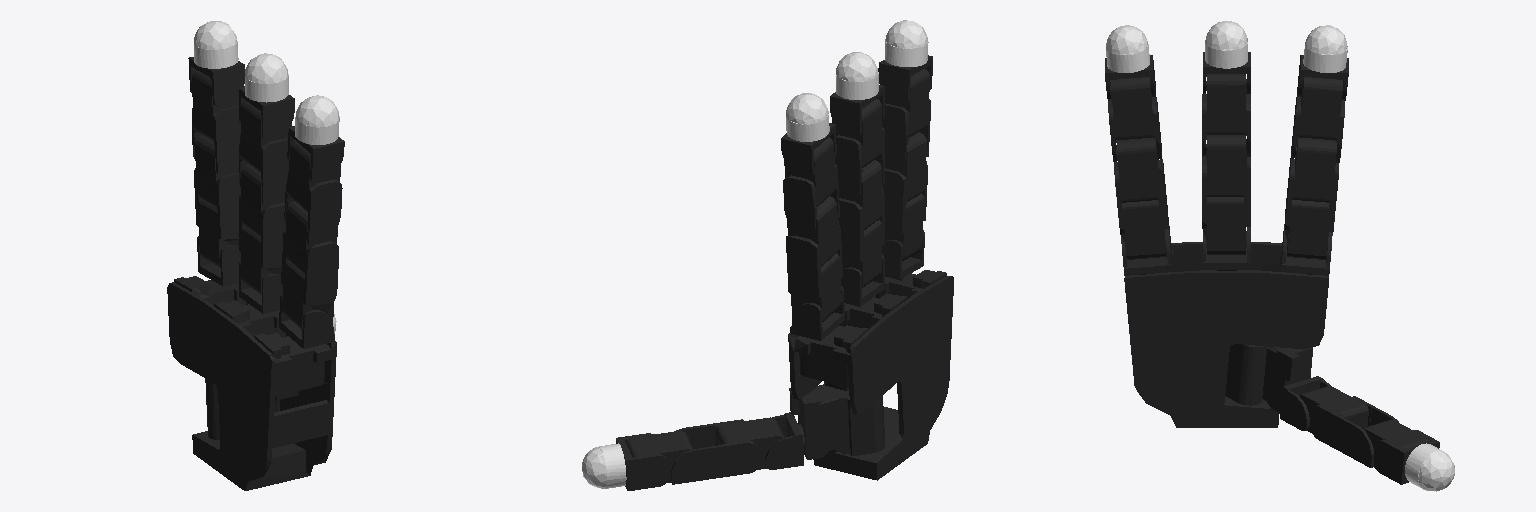
The robot description file, URDF, robot "allegro_hand_right":
<?xml version="1.0" ?>
<!-- =================================================================================== -->
<!-- |    This document was autogenerated by xacro from allegro_hand_description_right.xacro | -->
<!-- |    EDITING THIS FILE BY HAND IS NOT RECOMMENDED                                 | -->
<!-- =================================================================================== -->
<robot name="allegro_hand_right" xmlns:xacro="http://www.ros.org/wiki/xacro">
  <!--
rosrun xacro xacro.py allegro_hand_description_right.urdf.xacro > allegro_hand_description_right.urdf
roslaunch launchers/fuerte/allegro_hand_jgui_right_virtual.launch 
-->
  <!-- ======================== BASE PARAMS ========================= -->
  <!-- ======================== FINGER PARAMS ======================== -->
  <!-- full height from joint to tip. when used,
the radius of the finger tip sphere will be subtracted
and one fixed link will be added for the tip. -->
  <!--0.0435,   0.044981-->
  <!--0.002298-->
  <!--0.002298-->
  <!-- ========================= THUMB PARAMS ========================= -->
  <!-- ========================= LIMITS ========================= -->
  <!-- ============================================================================= -->
  <!-- ============================================================================= -->
  <!-- ============================================================================= -->
  <!-- BASE -->
  <link name="base_link">
    <visual>
      <geometry>
        <mesh filename="meshes/base_link.STL"/>
      </geometry>
      <!-- LEFT -->
      <!-- <origin rpy="${-90*DEG2RAD} 0 0" xyz="0 0 0 "/> -->
      <!-- RIGHT -->
      <origin rpy="0 0 0" xyz="0 0 0 "/>
      <material name="black">
        <color rgba="0.2 0.2 0.2 1"/>
      </material>
    </visual>
    <inertial>
      <mass value="0.41540000"/>
      <inertia ixx="2.3161e-7" ixy="-2.7805e-10" ixz="1.4202e-9" iyy="1.4231e-7" iyz="-8.8101e-9" izz="1.2820e-7"/>
      <origin xyz="-0.00952503 0.00046095 -0.03822657"/>
    </inertial>
    <collision>
      <origin rpy="0 0 0" xyz="-0.009300 0 -0.0475"/>
      <geometry>
        <box size="0.0408 0.1130 0.095"/>
      </geometry>
    </collision>
  </link>
  <!-- ============================================================================= -->
  <!-- FINGERS -->
  <!-- RIGHT HAND due to which finger is number 0 -->
  <!-- for LEFT HAND switch the sign of the **offset_origin_y** and **finger_angle_r** parameters-->
  <link name="link_0">
    <visual>
      <geometry>
        <mesh filename="meshes/link_0.0.STL"/>
      </geometry>
      <material name="black"/>
    </visual>
    <inertial>
      <mass value="0.01190000"/>
      <inertia ixx="4.3968e-10" ixy="4.8612e-13" ixz="1.6056e-11" iyy="2.1654e-10" iyz="-5.7592e-12" izz="4.2916e-10"/>
      <origin xyz="-0.00047307 0.00024005 0.00596328"/>
    </inertial>
    <collision>
      <geometry>
        <box size="0.0196 0.0275 0.0164"/>
      </geometry>
      <origin rpy="0 0 0" xyz="0 0 0.0082"/>
    </collision>
  </link>
  <joint name="joint_0" type="revolute">
    <axis xyz="0 0 1"/>
    <limit effort="0" lower="-0.47" upper="0.47" velocity="0"/>
    <parent link="base_link"/>
    <child link="link_0"/>
    <origin rpy="-0.08726646255 0 0" xyz="0 0.0435 -0.001542"/>
  </joint>
  <link name="link_1">
    <visual>
      <geometry>
        <mesh filename="meshes/link_1.0.STL"/>
      </geometry>
      <material name="black"/>
    </visual>
    <inertial>
      <mass value="0.06500000"/>
      <inertia ixx="1.5917e-8" ixy="6.0500e-19" ixz="-1.9640e-18" iyy="1.5037e-8" iyz="-4.3180e-14" izz="3.1035e-9"/>
      <origin xyz="0.00000000 -0.00003069 0.02699990"/>
    </inertial>
    <collision>
      <geometry>
        <box size="0.0196 0.0275 0.054"/>
      </geometry>
      <origin rpy="0 0 0" xyz="0 0 0.027"/>
    </collision>
  </link>
  <joint name="joint_1" type="revolute">
    <limit effort="0" lower="-0.196" upper="1.61" velocity="0"/>
    <axis xyz="0 1 0"/>
    <parent link="link_0"/>
    <child link="link_1"/>
    <origin xyz="0 0 0.0164"/>
  </joint>
  <link name="link_2">
    <visual>
      <geometry>
        <mesh filename="meshes/link_2.0.STL"/>
      </geometry>
      <material name="black"/>
    </visual>
    <inertial>
      <mass value="0.03550000"/>
      <inertia ixx="8.2002e-9" ixy="-4.2376e-11" ixz="-2.5993e-11" iyy="5.9630e-9" iyz="-5.2249e-10" izz="4.1430e-9"/>
      <origin xyz="-0.00014855 -0.00162236 0.02492425"/>
    </inertial>
    <collision>
      <geometry>
        <box size="0.0196 0.0275 0.0384"/>
      </geometry>
      <origin rpy="0 0 0" xyz="0 0 0.0192"/>
    </collision>
  </link>
  <joint name="joint_2" type="revolute">
    <axis xyz="0 1 0"/>
    <limit effort="0" lower="-0.174" upper="1.709" velocity="0"/>
    <parent link="link_1"/>
    <child link="link_2"/>
    <origin xyz="0 0 0.054"/>
  </joint>
  <link name="link_3">
    <visual>
      <geometry>
        <mesh filename="meshes/link_3.0.STL"/>
      </geometry>
      <material name="black"/>
    </visual>
    <inertial>
      <mass value="0.00480000"/>
      <inertia ixx="4.5827e-10" ixy="4.7378e-13" ixz="-1.2806e-11" iyy="2.2769e-10" iyz="2.9649e-12" izz="4.4562e-10"/>
      <origin xyz="-0.00030124 -0.00009704 0.00976183"/>
    </inertial>
    <collision>
      <geometry>
        <box size="0.0196 0.0275 0.0267"/>
      </geometry>
      <origin rpy="0 0 0" xyz="0 0 0.01335"/>
    </collision>
  </link>
  <joint name="joint_3" type="revolute">
    <axis xyz="0 1 0"/>
    <limit effort="0" lower="-0.227" upper="1.618" velocity="0"/>
    <parent link="link_2"/>
    <child link="link_3"/>
    <origin xyz="0 0 0.0384"/>
  </joint>
  <link name="link_3_tip">
    <visual>
      <geometry>
        <mesh filename="meshes/link_3.0_tip.STL"/>
      </geometry>
      <material name="white">
        <color rgba=".9 .9 .9 1"/>
      </material>
    </visual>
    <inertial>
      <mass value="0.00480000"/>
      <inertia ixx="7.6421e-10" ixy="-4.3347e-14" ixz="2.0810e-12" iyy="7.6149e-10" iyz="-4.4079e-13" izz="7.8814e-10"/>
      <origin xyz="-0.00003235 -0.00001387 -0.00235156"/>
    </inertial>
    <collision>
      <geometry>
        <sphere radius="0.012"/>
      </geometry>
    </collision>
  </link>
  <joint name="joint_3_tip" type="fixed">
    <parent link="link_3"/>
    <child link="link_3_tip"/>
    <origin rpy="0 0 0" xyz="0 0 0.0267"/>
  </joint>
  <link name="link_4">
    <visual>
      <geometry>
        <mesh filename="meshes/link_0.0.STL"/>
      </geometry>
      <material name="black"/>
    </visual>
    <inertial>
      <mass value="0.01190000"/>
      <inertia ixx="4.3968e-10" ixy="4.8612e-13" ixz="1.6056e-11" iyy="2.1654e-10" iyz="-5.7592e-12" izz="4.2916e-10"/>
      <origin xyz="-0.00047307 0.00024005 0.00596328"/>
    </inertial>
    <collision>
      <geometry>
        <box size="0.0196 0.0275 0.0164"/>
      </geometry>
      <origin rpy="0 0 0" xyz="0 0 0.0082"/>
    </collision>
  </link>
  <joint name="joint_4" type="revolute">
    <axis xyz="0 0 1"/>
    <limit effort="0" lower="-0.47" upper="0.47" velocity="0"/>
    <parent link="base_link"/>
    <child link="link_4"/>
    <origin rpy="0.0 0 0" xyz="0 0 0.0007"/>
  </joint>
  <link name="link_5">
    <visual>
      <geometry>
        <mesh filename="meshes/link_1.0.STL"/>
      </geometry>
      <material name="black"/>
    </visual>
    <inertial>
      <mass value="0.06500000"/>
      <inertia ixx="1.5917e-8" ixy="6.0500e-19" ixz="-1.9640e-18" iyy="1.5037e-8" iyz="-4.3180e-14" izz="3.1035e-9"/>
      <origin xyz="0.00000000 -0.00003069 0.02699990"/>
    </inertial>
    <collision>
      <geometry>
        <box size="0.0196 0.0275 0.054"/>
      </geometry>
      <origin rpy="0 0 0" xyz="0 0 0.027"/>
    </collision>
  </link>
  <joint name="joint_5" type="revolute">
    <limit effort="0" lower="-0.196" upper="1.61" velocity="0"/>
    <axis xyz="0 1 0"/>
    <parent link="link_4"/>
    <child link="link_5"/>
    <origin xyz="0 0 0.0164"/>
  </joint>
  <link name="link_6">
    <visual>
      <geometry>
        <mesh filename="meshes/link_2.0.STL"/>
      </geometry>
      <material name="black"/>
    </visual>
    <inertial>
      <mass value="0.03550000"/>
      <inertia ixx="8.2002e-9" ixy="-4.2376e-11" ixz="-2.5993e-11" iyy="5.9630e-9" iyz="-5.2249e-10" izz="4.1430e-9"/>
      <origin xyz="-0.00014855 -0.00162236 0.02492425"/>
    </inertial>
    <collision>
      <geometry>
        <box size="0.0196 0.0275 0.0384"/>
      </geometry>
      <origin rpy="0 0 0" xyz="0 0 0.0192"/>
    </collision>
  </link>
  <joint name="joint_6" type="revolute">
    <axis xyz="0 1 0"/>
    <limit effort="0" lower="-0.174" upper="1.709" velocity="0"/>
    <parent link="link_5"/>
    <child link="link_6"/>
    <origin xyz="0 0 0.054"/>
  </joint>
  <link name="link_7">
    <visual>
      <geometry>
        <mesh filename="meshes/link_3.0.STL"/>
      </geometry>
      <material name="black"/>
    </visual>
    <inertial>
      <mass value="0.00480000"/>
      <inertia ixx="4.5827e-10" ixy="4.7378e-13" ixz="-1.2806e-11" iyy="2.2769e-10" iyz="2.9649e-12" izz="4.4562e-10"/>
      <origin xyz="-0.00030124 -0.00009704 0.00976183"/>
    </inertial>
    <collision>
      <geometry>
        <box size="0.0196 0.0275 0.0267"/>
      </geometry>
      <origin rpy="0 0 0" xyz="0 0 0.01335"/>
    </collision>
  </link>
  <joint name="joint_7" type="revolute">
    <axis xyz="0 1 0"/>
    <limit effort="0" lower="-0.227" upper="1.618" velocity="0"/>
    <parent link="link_6"/>
    <child link="link_7"/>
    <origin xyz="0 0 0.0384"/>
  </joint>
  <link name="link_7_tip">
    <visual>
      <geometry>
        <mesh filename="meshes/link_3.0_tip.STL"/>
      </geometry>
      <material name="white">
        <color rgba=".9 .9 .9 1"/>
      </material>
    </visual>
    <inertial>
      <mass value="0.00480000"/>
      <inertia ixx="7.6421e-10" ixy="-4.3347e-14" ixz="2.0810e-12" iyy="7.6149e-10" iyz="-4.4079e-13" izz="7.8814e-10"/>
      <origin xyz="-0.00003235 -0.00001387 -0.00235156"/>
    </inertial>
    <collision>
      <geometry>
        <sphere radius="0.012"/>
      </geometry>
    </collision>
  </link>
  <joint name="joint_7_tip" type="fixed">
    <parent link="link_7"/>
    <child link="link_7_tip"/>
    <origin rpy="0 0 0" xyz="0 0 0.0267"/>
  </joint>
  <link name="link_8">
    <visual>
      <geometry>
        <mesh filename="meshes/link_0.0.STL"/>
      </geometry>
      <material name="black"/>
    </visual>
    <inertial>
      <mass value="0.01190000"/>
      <inertia ixx="4.3968e-10" ixy="4.8612e-13" ixz="1.6056e-11" iyy="2.1654e-10" iyz="-5.7592e-12" izz="4.2916e-10"/>
      <origin xyz="-0.00047307 0.00024005 0.00596328"/>
    </inertial>
    <collision>
      <geometry>
        <box size="0.0196 0.0275 0.0164"/>
      </geometry>
      <origin rpy="0 0 0" xyz="0 0 0.0082"/>
    </collision>
  </link>
  <joint name="joint_8" type="revolute">
    <axis xyz="0 0 1"/>
    <limit effort="0" lower="-0.47" upper="0.47" velocity="0"/>
    <parent link="base_link"/>
    <child link="link_8"/>
    <origin rpy="0.08726646255 0 0" xyz="0 -0.0435 -0.001542"/>
  </joint>
  <link name="link_9">
    <visual>
      <geometry>
        <mesh filename="meshes/link_1.0.STL"/>
      </geometry>
      <material name="black"/>
    </visual>
    <inertial>
      <mass value="0.06500000"/>
      <inertia ixx="1.5917e-8" ixy="6.0500e-19" ixz="-1.9640e-18" iyy="1.5037e-8" iyz="-4.3180e-14" izz="3.1035e-9"/>
      <origin xyz="0.00000000 -0.00003069 0.02699990"/>
    </inertial>
    <collision>
      <geometry>
        <box size="0.0196 0.0275 0.054"/>
      </geometry>
      <origin rpy="0 0 0" xyz="0 0 0.027"/>
    </collision>
  </link>
  <joint name="joint_9" type="revolute">
    <limit effort="0" lower="-0.196" upper="1.61" velocity="0"/>
    <axis xyz="0 1 0"/>
    <parent link="link_8"/>
    <child link="link_9"/>
    <origin xyz="0 0 0.0164"/>
  </joint>
  <link name="link_10">
    <visual>
      <geometry>
        <mesh filename="meshes/link_2.0.STL"/>
      </geometry>
      <material name="black"/>
    </visual>
    <inertial>
      <mass value="0.03550000"/>
      <inertia ixx="8.2002e-9" ixy="-4.2376e-11" ixz="-2.5993e-11" iyy="5.9630e-9" iyz="-5.2249e-10" izz="4.1430e-9"/>
      <origin xyz="-0.00014855 -0.00162236 0.02492425"/>
    </inertial>
    <collision>
      <geometry>
        <box size="0.0196 0.0275 0.0384"/>
      </geometry>
      <origin rpy="0 0 0" xyz="0 0 0.0192"/>
    </collision>
  </link>
  <joint name="joint_10" type="revolute">
    <axis xyz="0 1 0"/>
    <limit effort="0" lower="-0.174" upper="1.709" velocity="0"/>
    <parent link="link_9"/>
    <child link="link_10"/>
    <origin xyz="0 0 0.054"/>
  </joint>
  <link name="link_11">
    <visual>
      <geometry>
        <mesh filename="meshes/link_3.0.STL"/>
      </geometry>
      <material name="black"/>
    </visual>
    <inertial>
      <mass value="0.00480000"/>
      <inertia ixx="4.5827e-10" ixy="4.7378e-13" ixz="-1.2806e-11" iyy="2.2769e-10" iyz="2.9649e-12" izz="4.4562e-10"/>
      <origin xyz="-0.00030124 -0.00009704 0.00976183"/>
    </inertial>
    <collision>
      <geometry>
        <box size="0.0196 0.0275 0.0267"/>
      </geometry>
      <origin rpy="0 0 0" xyz="0 0 0.01335"/>
    </collision>
  </link>
  <joint name="joint_11" type="revolute">
    <axis xyz="0 1 0"/>
    <limit effort="0" lower="-0.227" upper="1.618" velocity="0"/>
    <parent link="link_10"/>
    <child link="link_11"/>
    <origin xyz="0 0 0.0384"/>
  </joint>
  <link name="link_11_tip">
    <visual>
      <geometry>
        <mesh filename="meshes/link_3.0_tip.STL"/>
      </geometry>
      <material name="white">
        <color rgba=".9 .9 .9 1"/>
      </material>
    </visual>
    <inertial>
      <mass value="0.00480000"/>
      <inertia ixx="7.6421e-10" ixy="-4.3347e-14" ixz="2.0810e-12" iyy="7.6149e-10" iyz="-4.4079e-13" izz="7.8814e-10"/>
      <origin xyz="-0.00003235 -0.00001387 -0.00235156"/>
    </inertial>
    <collision>
      <geometry>
        <sphere radius="0.012"/>
      </geometry>
    </collision>
  </link>
  <joint name="joint_11_tip" type="fixed">
    <parent link="link_11"/>
    <child link="link_11_tip"/>
    <origin rpy="0 0 0" xyz="0 0 0.0267"/>
  </joint>
  <!-- THUMB -->
  <link name="link_12">
    <visual>
      <geometry>
        <!-- RIGHT -->
        <mesh filename="meshes/link_12.0_right.STL"/>
        <!-- LEFT -->
        <!-- <mesh filename="package://allegro_hand_description/meshes/link_12.0_left.STL" /> -->
      </geometry>
      <material name="black">
        <color rgba=".2 .2 .2 1"/>
      </material>
    </visual>
    <inertial>
      <mass value="0.01760000"/>
      <inertia ixx="1.1262e-8" ixy="2.1880e-11" ixz="6.8010e-11" iyy="1.2881e-8" iyz="8.2109e-10" izz="8.6929e-9"/>
      <origin xyz="-0.01776469 0.00813654 0.01238897"/>
    </inertial>
    <collision>
      <geometry>
        <box size="0.0358 0.034 0.0455"/>
      </geometry>
      <!-- RIGHT -->
      <origin rpy="0 0 0" xyz="-0.0179 0.009 0.0145"/>
      <!-- LEFT -->
      <!-- <origin rpy="0 0 0" xyz="${-0.0358/2+0.0} ${-.018/2} ${.029/2}"/> -->
    </collision>
  </link>
  <joint name="joint_12" type="revolute">
    <axis xyz="-1 0 0"/>
    <limit effort="0" lower="0.263" upper="1.396" velocity="0"/>
    <parent link="base_link"/>
    <child link="link_12"/>
    <origin rpy="0 -1.65806278845 -1.5707963259" xyz="-0.0182 0.019333 -0.045987"/>
  </joint>
  <link name="link_13">
    <visual>
      <geometry>
        <mesh filename="meshes/link_13.0.STL"/>
      </geometry>
      <material name="black">
        <color rgba=".2 .2 .2 1"/>
      </material>
    </visual>
    <inertial>
      <mass value="0.01190000"/>
      <inertia ixx="4.2936e-10" ixy="4.6684e-13" ixz="1.5446e-11" iyy="2.1002e-10" iyz="-5.2752e-12" izz="4.2118e-10"/>
      <origin xyz="-0.00046728 0.00022601 0.00569165"/>
    </inertial>
    <collision>
      <geometry>
        <box size="0.0196 0.0275 0.0177"/>
      </geometry>
      <origin rpy="0 0 0" xyz="0 0 0.00885"/>
    </collision>
  </link>
  <joint name="joint_13" type="revolute">
    <axis xyz="0 0 1"/>
    <limit effort="0" lower="-0.105" upper="1.163" velocity="0"/>
    <parent link="link_12"/>
    <child link="link_13"/>
    <!-- RIGHT -->
    <origin xyz="-0.027 0.005 0.0399"/>
    <!-- LEFT -->
    <!-- <origin xyz="-0.027 -0.005 0.0399"/> -->
  </joint>
  <link name="link_14">
    <visual>
      <geometry>
        <mesh filename="meshes/link_14.0.STL"/>
      </geometry>
      <material name="black">
		  	</material>
    </visual>
    <inertial>
      <mass value="0.03800000"/>
      <inertia ixx="9.6753e-9" ixy="-2.1032e-12" ixz="2.5746e-11" iyy="7.7582e-9" iyz="2.7432e-10" izz="3.9455e-9"/>
      <origin xyz="-0.00013972 -0.00056652 0.01389734"/>
    </inertial>
    <collision>
      <geometry>
        <box size="0.0196 0.0275 0.0514"/>
      </geometry>
      <origin rpy="0 0 0" xyz="0 0 0.0257"/>
    </collision>
  </link>
  <joint name="joint_14" type="revolute">
    <axis xyz="0 1 0"/>
    <limit effort="0" lower="-0.189" upper="1.644" velocity="0"/>
    <parent link="link_13"/>
    <child link="link_14"/>
    <origin xyz="0 0 0.0177"/>
  </joint>
  <link name="link_15">
    <visual>
      <geometry>
        <mesh filename="meshes/link_15.0.STL"/>
      </geometry>
      <material name="black">
    	</material>
    </visual>
    <inertial>
      <mass value="0.03400000"/>
      <inertia ixx="3.6740e-9" ixy="-2.0110e-18" ixz="1.3500e-19" iyy="3.1686e-9" iyz="5.0312e-12" izz="1.7628e-9"/>
      <origin xyz="0.00000000 0.00006711 0.01212869"/>
    </inertial>
    <collision>
      <geometry>
        <box size="0.0196 0.0275 0.0423"/>
      </geometry>
      <origin rpy="0 0 0" xyz="0 0 0.02115"/>
    </collision>
  </link>
  <joint name="joint_15" type="revolute">
    <axis xyz="0 1 0"/>
    <limit effort="0" lower="-0.162" upper="1.719" velocity="0"/>
    <parent link="link_14"/>
    <child link="link_15"/>
    <origin xyz="0 0 0.0514"/>
  </joint>
  <link name="link_15_tip">
    <visual>
      <geometry>
        <mesh filename="meshes/link_15.0_tip.STL"/>
      </geometry>
      <material name="white">
        <color rgba=".9 .9 .9 1"/>
      </material>
    </visual>
    <inertial>
      <mass value="0.00480000"/>
      <inertia ixx="7.6421e-10" ixy="-4.3347e-14" ixz="2.0810e-12" iyy="7.6149e-10" iyz="-4.4079e-13" izz="7.8814e-10"/>
      <origin xyz="-0.00003235 -0.00001387 -0.00235156"/>
    </inertial>
    <collision>
      <geometry>
        <sphere radius="0.012"/>
      </geometry>
      <origin rpy="0 0 0" xyz="0 0 0"/>
    </collision>
  </link>
  <joint name="joint_15_tip" type="fixed">
    <parent link="link_15"/>
    <child link="link_15_tip"/>
    <origin rpy="0 0 0" xyz="0 0 0.0423"/>
    <!--0.0267000000000005-->
  </joint>
  <!--
<xacro:thumb_left 
	finger_num=			"3" 
	offset_origin_x=	"-0.0182"	
	offset_origin_y=	"-0.019333" 
	offset_origin_z=	"-0.045987" 
	
	
	finger_angle_r=		"${90*DEG2RAD}"
	finger_angle_p=		"-${95*DEG2RAD}"	
	finger_angle_y=		"${90*DEG2RAD}"
/>
-->
  <!-- ============================================================================= -->
  <!-- ============================================================================= -->
  <!-- ============================================================================= -->
  <!-- THUMB MACRO -->
  <!-- END THUMB MACRO -->
  <!-- THREE FINGER MACRO -->
  <!-- [[END]] THREE FINGER MACRO -->
</robot>

--- Render facts (derived) ---
Views: 3 orthographic renders of the robot side by side, from view 1: azimuth 30°, elevation 25°; view 2: azimuth 150°, elevation 25°; view 3: azimuth 270°, elevation 25°.
Model allegro_hand_right with 21 links and 20 joints (16 revolute, 4 fixed), rooted at base_link, posed joints at zero except 1 at the middle of their limits (joint_12 = 0.8295).
Visible links, largest first — view 1: base_link, link_9, link_1, link_5, link_10, link_2, link_6, link_11_tip, link_7_tip, link_3_tip, link_8, link_3 (+5 smaller); view 2: base_link, link_14, link_12, link_1, link_5, link_9, link_2, link_15, link_6, link_10, link_3_tip, link_7_tip (+9 smaller); view 3: base_link, link_9, link_1, link_5, link_12, link_14, link_2, link_10, link_6, link_15, link_15_tip, link_3_tip (+9 smaller).
Boxes of the visible links, bbox=[...] form: base_link: bbox=[167, 276, 336, 490]; link_9: bbox=[281, 201, 338, 329]; link_1: bbox=[194, 135, 240, 266]; link_5: bbox=[239, 164, 285, 294]; link_10: bbox=[284, 140, 342, 244]; link_2: bbox=[192, 70, 240, 174]; link_6: bbox=[239, 101, 291, 205]; link_11_tip: bbox=[295, 95, 339, 144]; link_7_tip: bbox=[245, 53, 288, 102]; link_3_tip: bbox=[194, 21, 238, 68]; link_8: bbox=[279, 292, 334, 348]; link_3: bbox=[188, 57, 244, 107]; base_link: bbox=[788, 270, 953, 480]; link_14: bbox=[671, 417, 784, 484]; link_12: bbox=[789, 382, 884, 459]; link_1: bbox=[786, 196, 842, 321]; link_5: bbox=[838, 160, 884, 287]; link_9: bbox=[882, 132, 927, 260]; link_2: bbox=[783, 137, 839, 238]; link_15: bbox=[616, 431, 692, 490]; link_6: bbox=[832, 99, 884, 200]; link_10: bbox=[882, 69, 930, 169]; link_3_tip: bbox=[786, 93, 829, 141]; link_7_tip: bbox=[836, 52, 878, 99]; base_link: bbox=[1124, 242, 1328, 427]; link_9: bbox=[1114, 138, 1168, 259]; link_1: bbox=[1285, 137, 1338, 259]; link_5: bbox=[1202, 135, 1250, 254]; link_12: bbox=[1225, 344, 1312, 412]; link_14: bbox=[1299, 386, 1398, 467]; link_2: bbox=[1291, 77, 1344, 162]; link_10: bbox=[1108, 77, 1161, 162]; link_6: bbox=[1202, 74, 1250, 156]; link_15: bbox=[1362, 419, 1439, 484]; link_15_tip: bbox=[1405, 443, 1454, 491]; link_3_tip: bbox=[1303, 25, 1347, 72].
Size in the robot's own frame: 0.1381 by 0.1946 by 0.243 metres.
21 mesh visuals loaded from 11 distinct referenced files (11 binary STL).